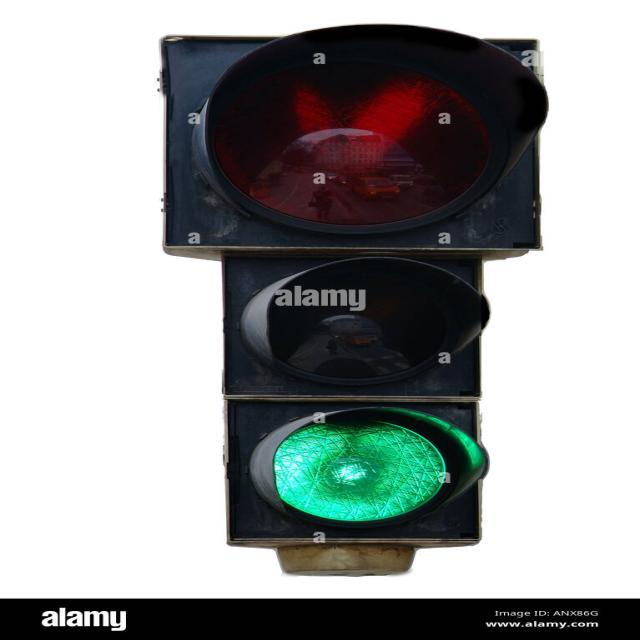green: (252, 407, 487, 533)
